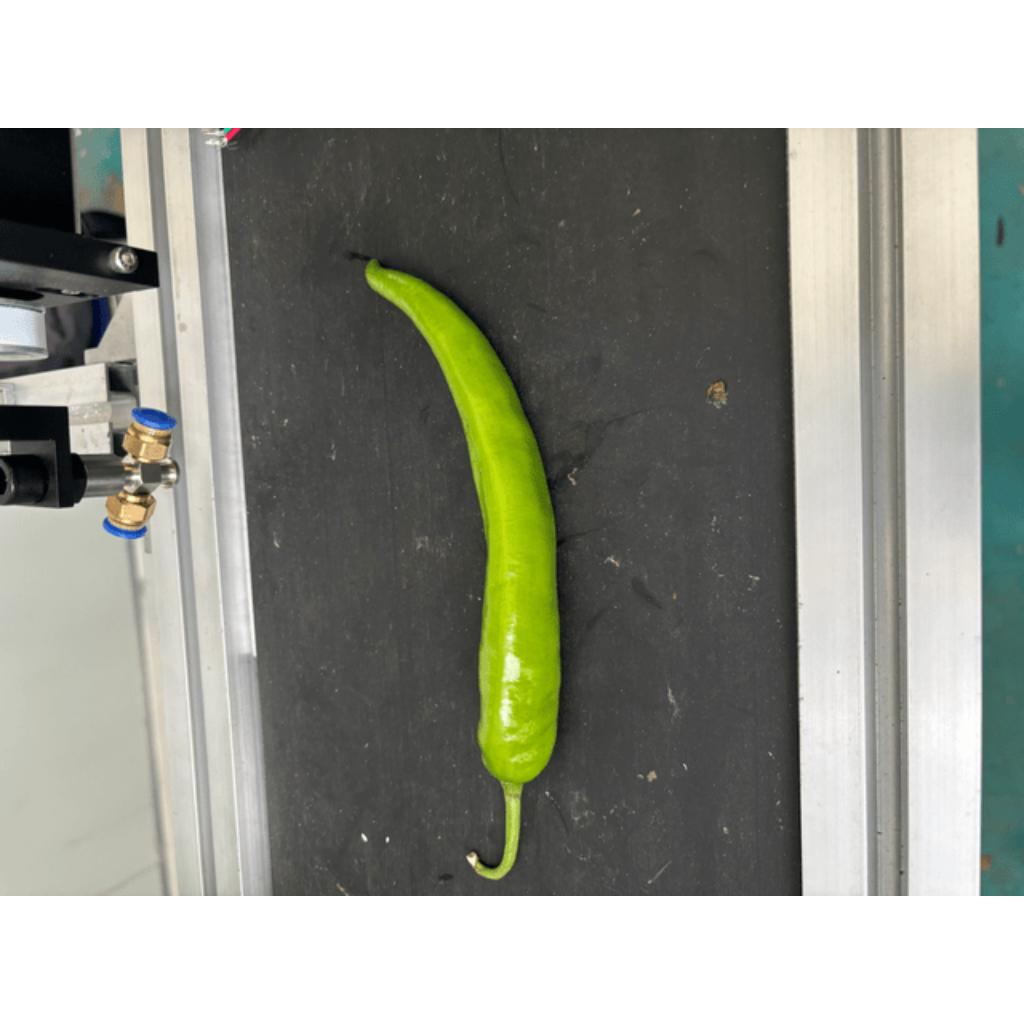chili: (363, 255, 563, 788)
